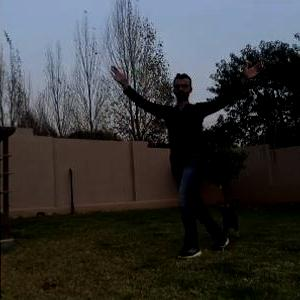takeoff: (122, 64, 263, 259)
